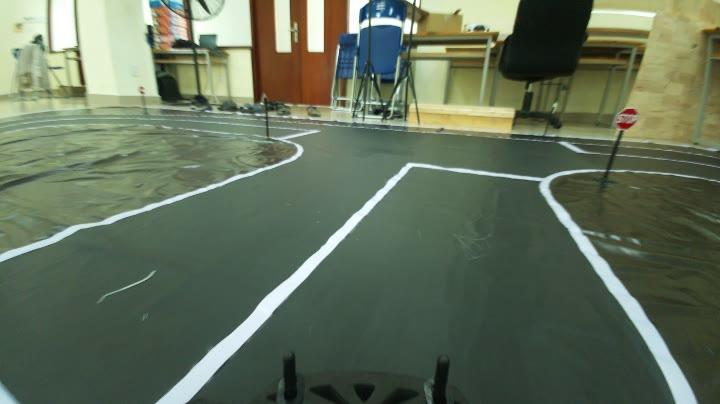stop: (608, 104, 646, 136)
